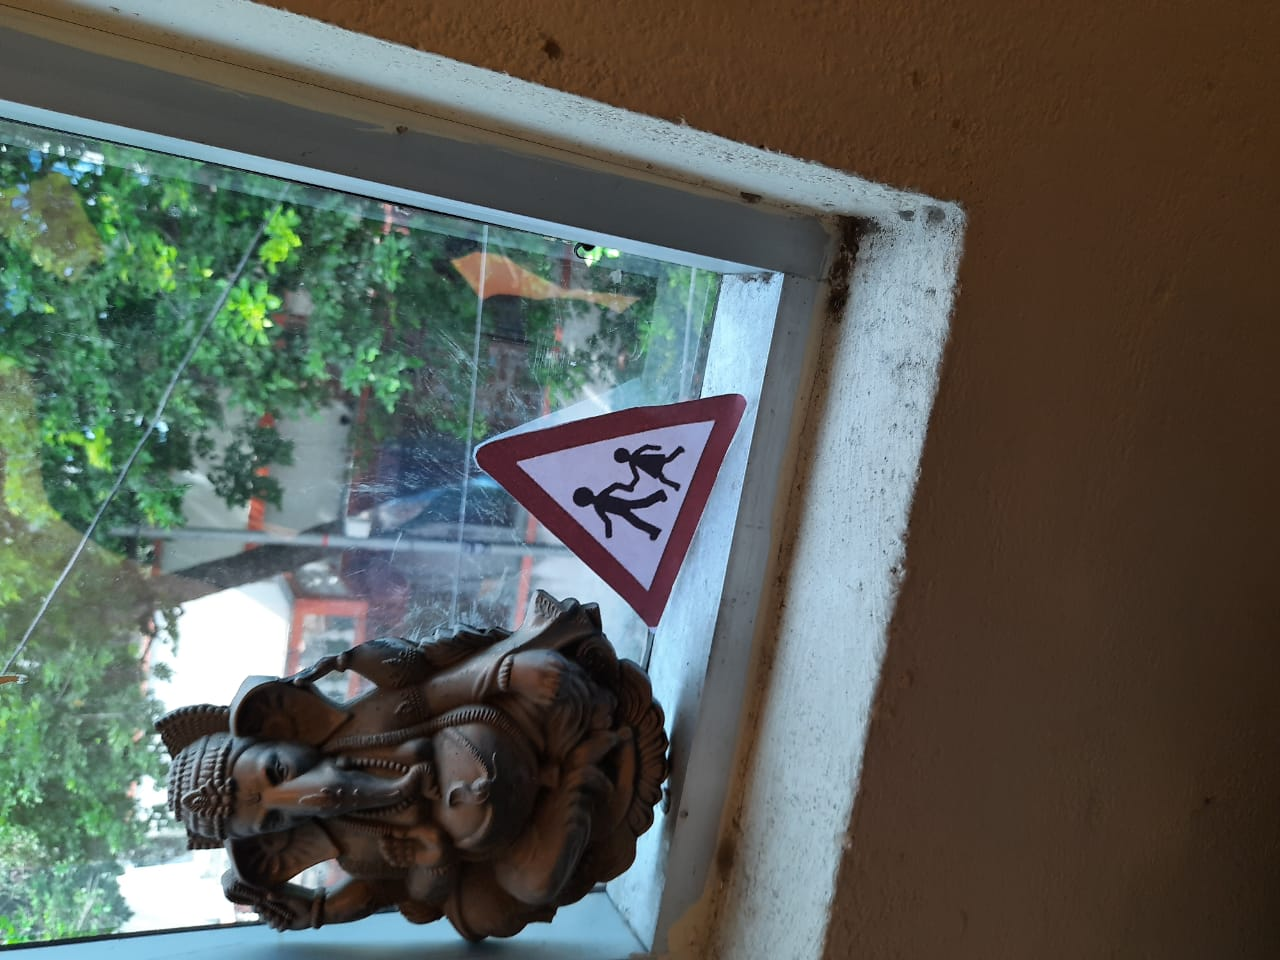SCHOOL ZONE: (473, 394, 766, 617)
